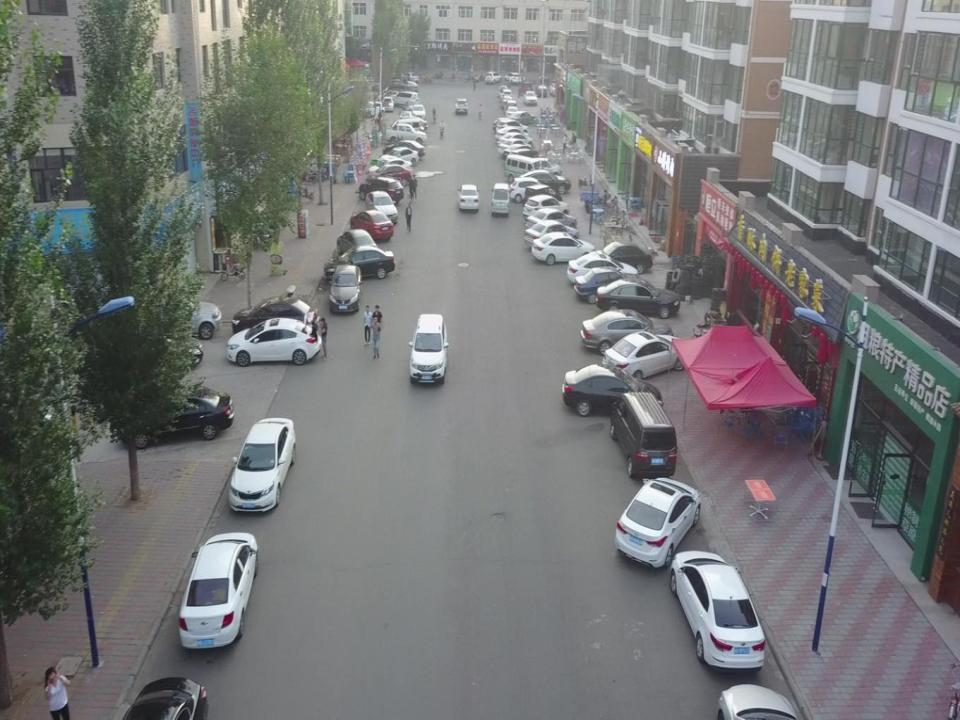car: (670, 551, 765, 668), (179, 531, 257, 648), (615, 477, 700, 568), (120, 386, 233, 450), (229, 418, 295, 510), (562, 364, 663, 417), (124, 288, 222, 340), (227, 312, 321, 366), (96, 328, 204, 371), (602, 331, 689, 383), (580, 308, 674, 356), (232, 296, 320, 337), (595, 278, 681, 318), (574, 265, 645, 305), (566, 254, 638, 291), (324, 245, 395, 281), (532, 231, 595, 266), (589, 241, 653, 274), (327, 264, 363, 312), (524, 220, 580, 250), (350, 210, 393, 241), (526, 207, 577, 232), (337, 229, 378, 260), (520, 170, 572, 194), (366, 191, 398, 224), (367, 158, 412, 180), (382, 139, 426, 160), (368, 164, 411, 185), (524, 157, 562, 179), (381, 146, 419, 166), (498, 138, 532, 158), (504, 144, 539, 162), (458, 184, 480, 211), (495, 126, 529, 143), (395, 116, 428, 132), (498, 132, 533, 147), (509, 111, 534, 126), (382, 88, 407, 102), (398, 81, 419, 95), (522, 90, 538, 105), (400, 72, 419, 84), (381, 96, 395, 111), (412, 105, 425, 120), (505, 106, 518, 120), (404, 100, 418, 113), (549, 83, 562, 97), (501, 96, 513, 109), (536, 85, 547, 98)
truck: (382, 123, 427, 145)
van: (611, 391, 677, 476), (408, 314, 449, 384), (522, 194, 570, 219), (359, 177, 404, 203), (504, 154, 544, 182), (523, 183, 563, 209), (510, 177, 550, 202), (491, 182, 511, 217), (496, 120, 528, 138), (392, 118, 420, 137), (392, 91, 418, 109), (361, 99, 382, 118), (493, 117, 516, 131), (377, 90, 400, 103), (398, 110, 414, 125), (504, 72, 522, 84), (455, 98, 468, 114), (485, 72, 502, 84), (504, 100, 517, 114), (519, 82, 532, 96), (501, 90, 513, 103), (498, 86, 507, 98)
